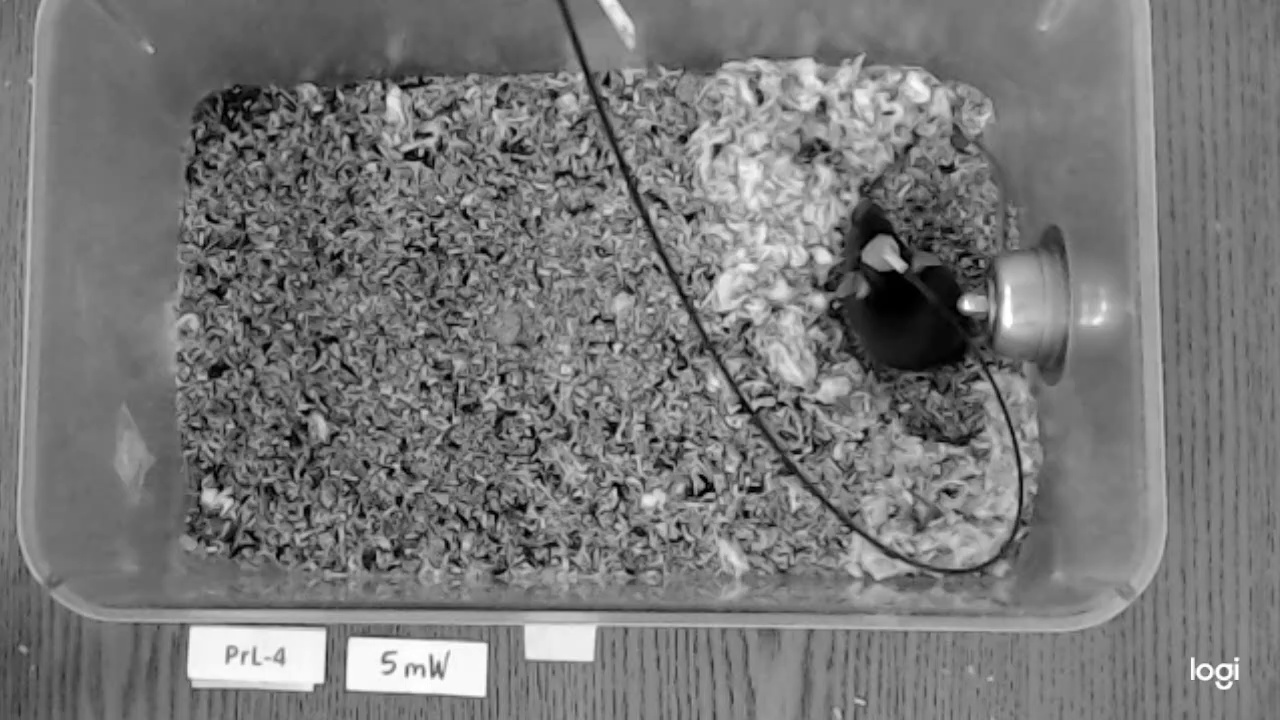parent-mice: (836, 200, 972, 371)
